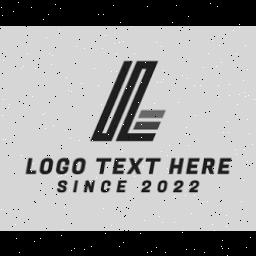l: (19, 150, 39, 178)
